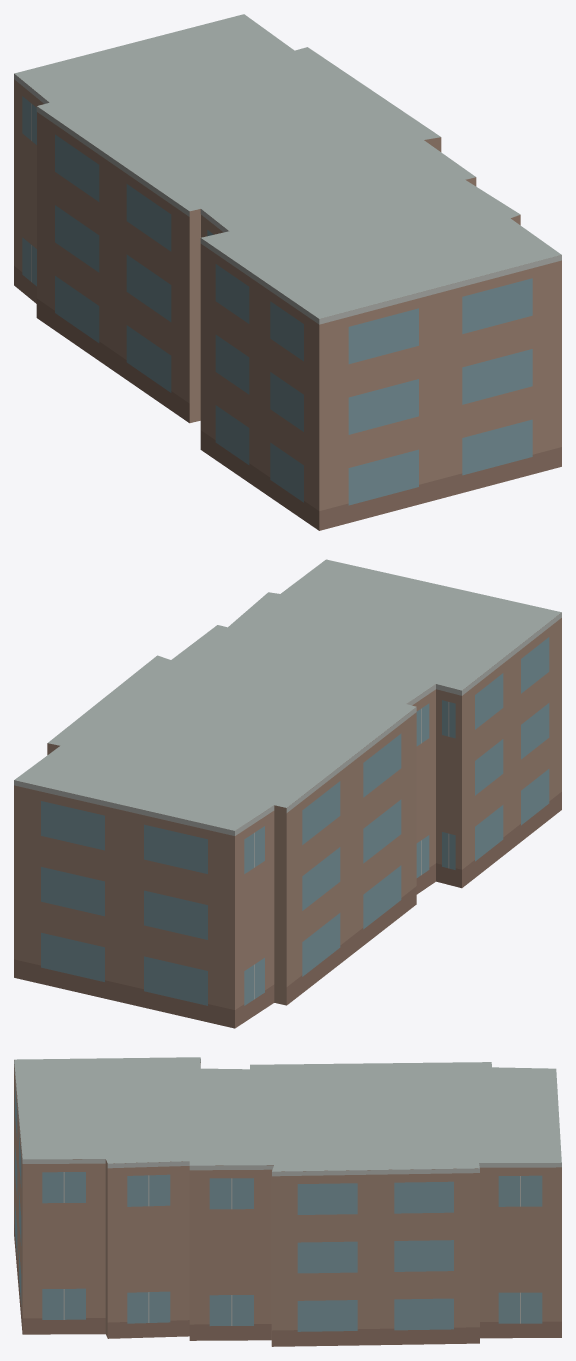
The model's file is survey-upis-32682307.glb.
3 views of the same model, one above another, from view 1: azimuth 30°, elevation 25°; view 2: azimuth 150°, elevation 25°; view 3: azimuth 270°, elevation 25° (orthographic). The views are drawn at different scales.
Parts seen in each view (by area): view 1: survey-upis-32682307.tmp; view 2: survey-upis-32682307.tmp; view 3: survey-upis-32682307.tmp.
Boxes of the visible parts, x1,y1,x2,y2 form: survey-upis-32682307.tmp: (14, 14, 561, 530); survey-upis-32682307.tmp: (14, 559, 561, 1028); survey-upis-32682307.tmp: (14, 1057, 561, 1346).
Bounding box in the file's own units: 12.83 × 9.15 × 25.94.
